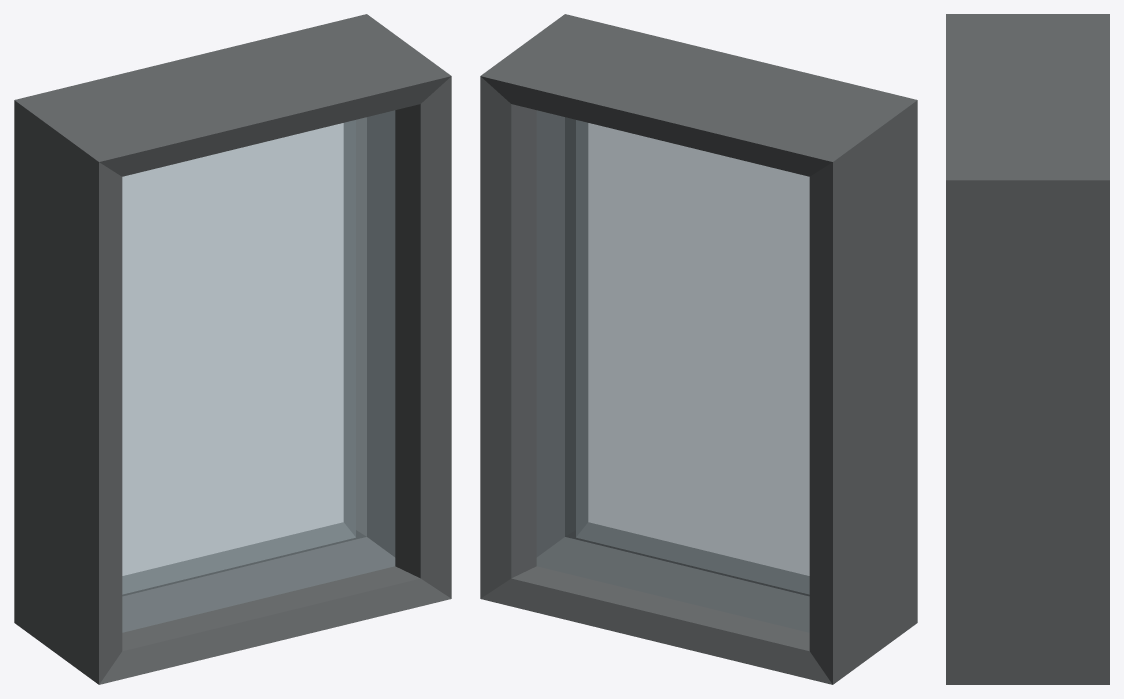
File: window transparent.fbx
The picture shows the model from 3 angles, left to right: view 1: azimuth 30°, elevation 25°; view 2: azimuth 150°, elevation 25°; view 3: azimuth 270°, elevation 25°; orthographic projection. The views are drawn at different scales.
Parts seen in each view (by area): view 1: pCube5; view 2: pCube5; view 3: pCube5.
Boxes of the visible parts, <box> form: pCube5: <box>14,14,451,684</box>; pCube5: <box>480,14,917,684</box>; pCube5: <box>946,14,1109,684</box>.
Bounding box in the file's own units: 1.2 × 1.7 × 0.5.
